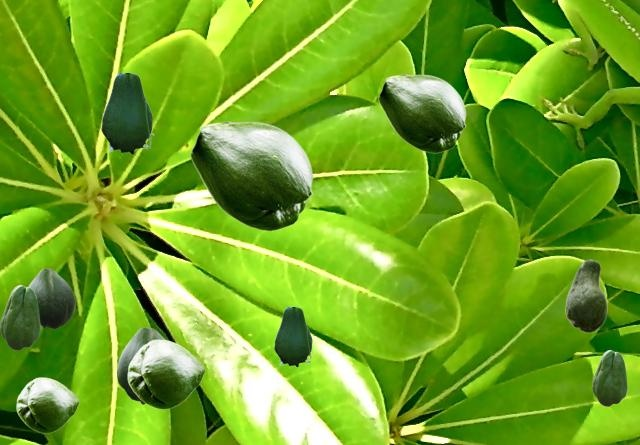sayote: (190, 121, 312, 230), (378, 74, 465, 152), (127, 339, 204, 408), (101, 73, 153, 155), (117, 327, 165, 405), (16, 377, 78, 432), (565, 259, 606, 332), (28, 268, 74, 328), (0, 285, 39, 349), (274, 307, 312, 367), (592, 350, 626, 405)
